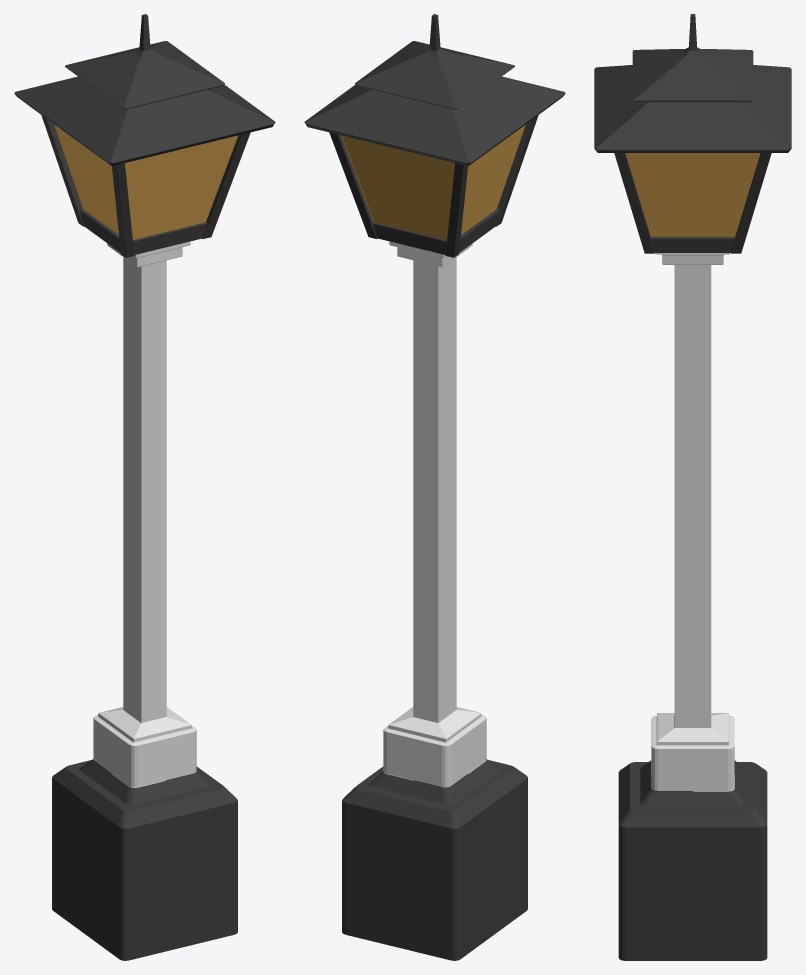
The model's file is lampPost.fbx.
3 renders of one model, left to right at view 1: azimuth 30°, elevation 25°; view 2: azimuth 150°, elevation 25°; view 3: azimuth 270°, elevation 25°, orthographic.
Visible parts, largest first — view 1: lampPost; view 2: lampPost; view 3: lampPost.
Boxes of the visible parts, bbox=[...] form: lampPost: bbox=[14, 14, 275, 960]; lampPost: bbox=[304, 14, 565, 960]; lampPost: bbox=[594, 14, 791, 960].
Bounding box in the file's own units: 123 × 635 × 124.
